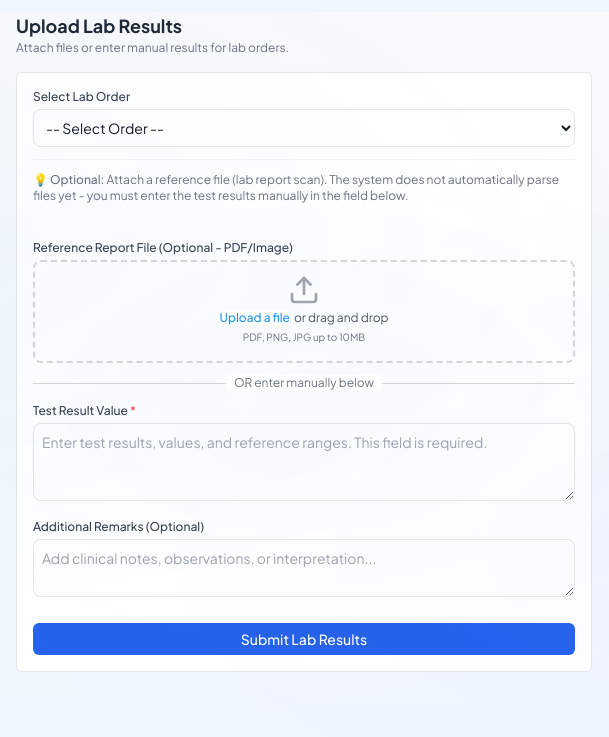
Scenario: Upload Results Page › shows success state after upload
Step 1. Select "LAB001 - John Smith (Complete Blood Count)" in the dropdown → [304, 128], box [33,109,575,147]
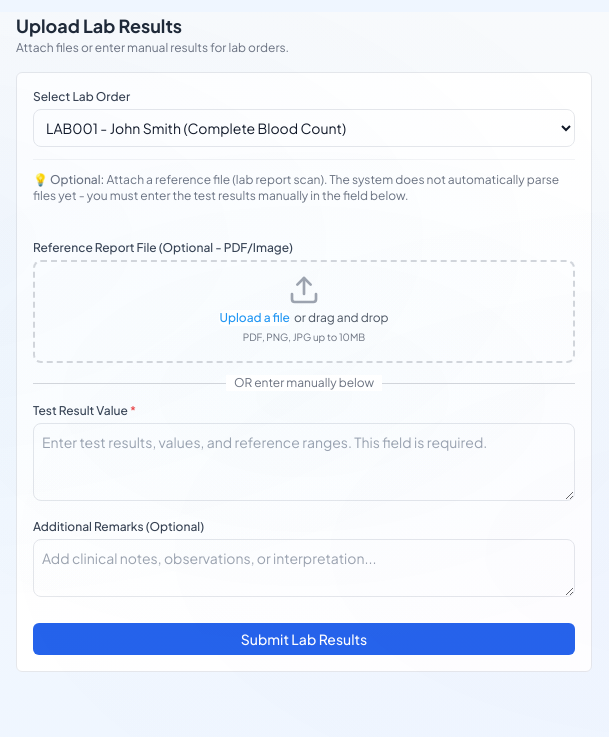
Step 2. Replace the text in the text box with placeholder "Enter test results" with "WBC: 7.5" → [304, 462], box [33,423,575,501]
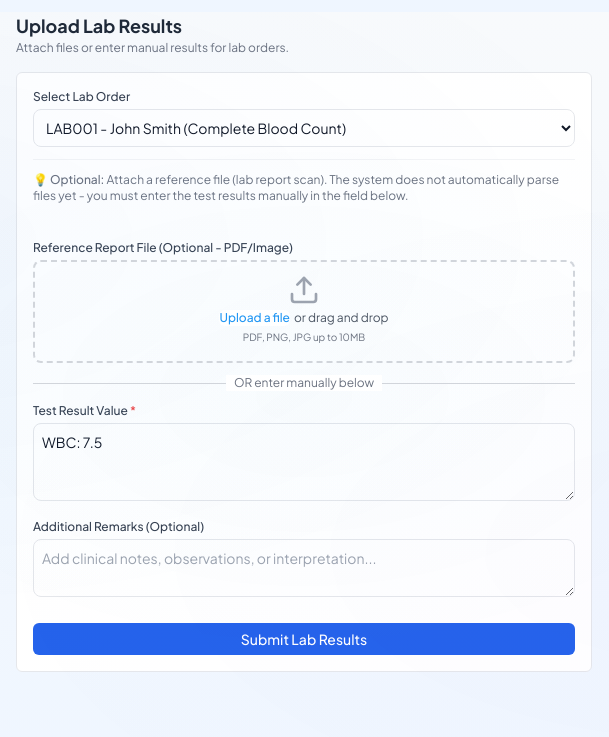
Step 3. Click the button "Submit Lab Results" → [304, 639], box [33,623,575,655]
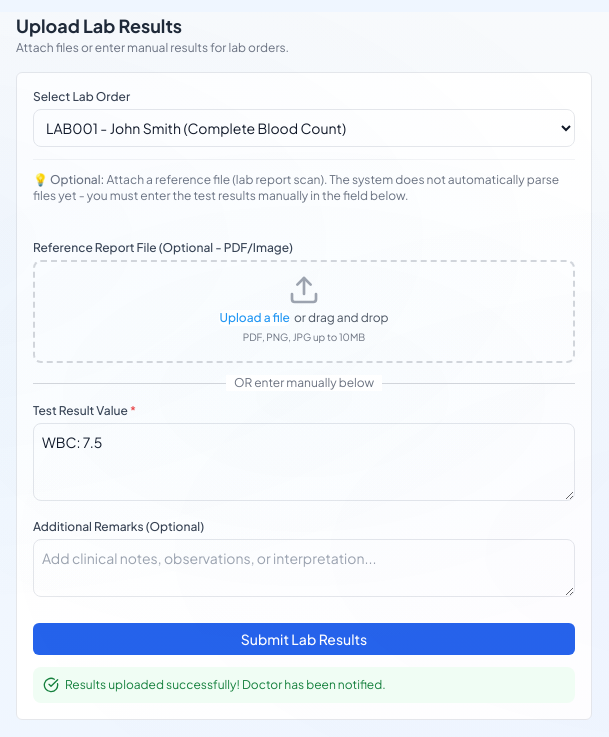
Result: the text "Results uploaded successfully! Doctor has been notified." is shown at [33,667,575,703]
